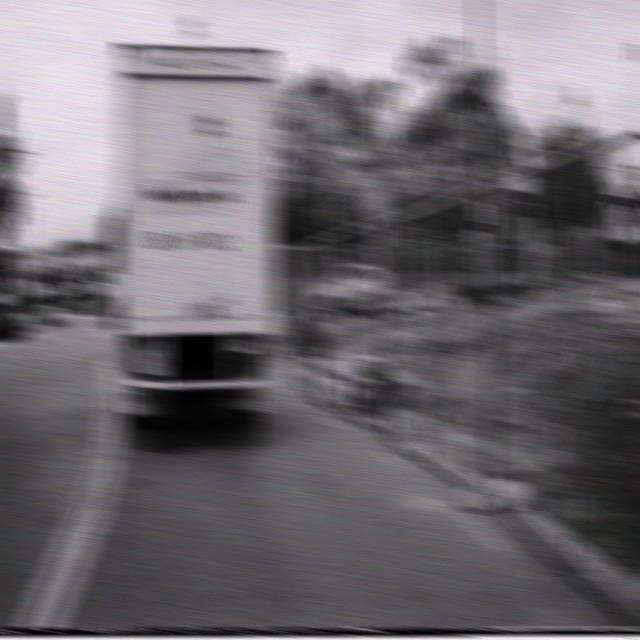stop_sign: (360, 178, 391, 225)
